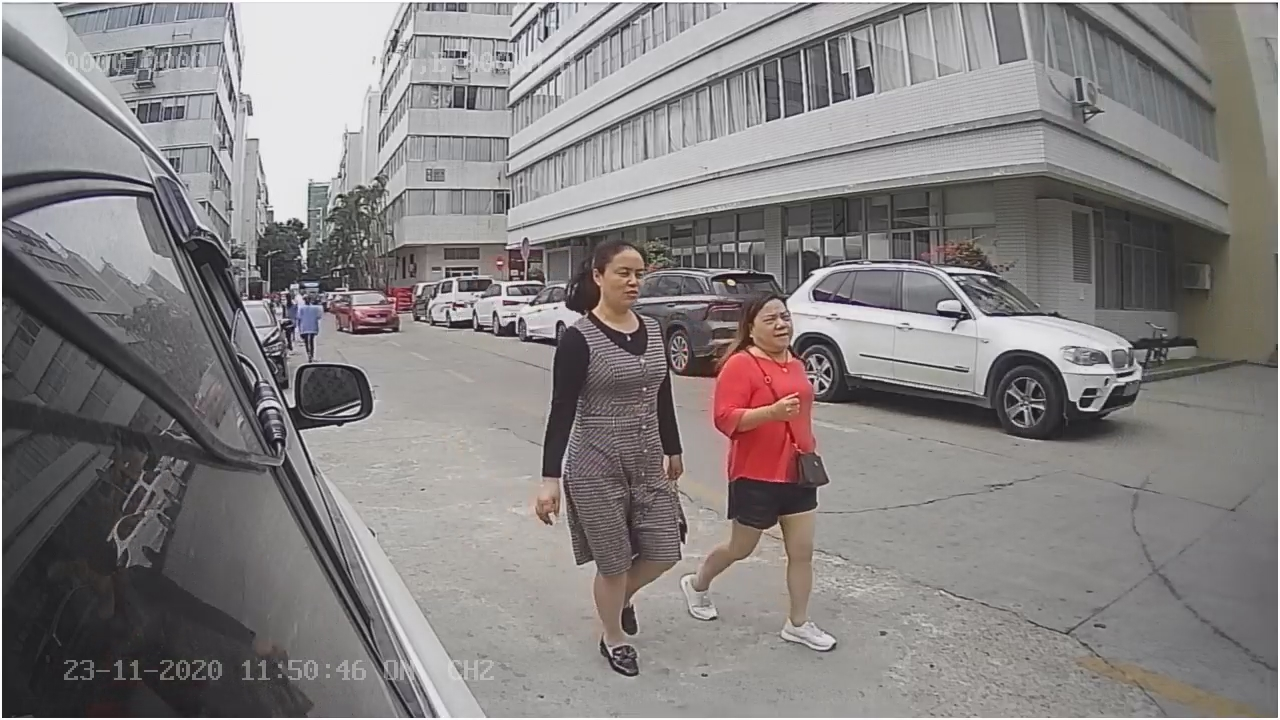person: (531, 227, 679, 676), (691, 268, 839, 645)
